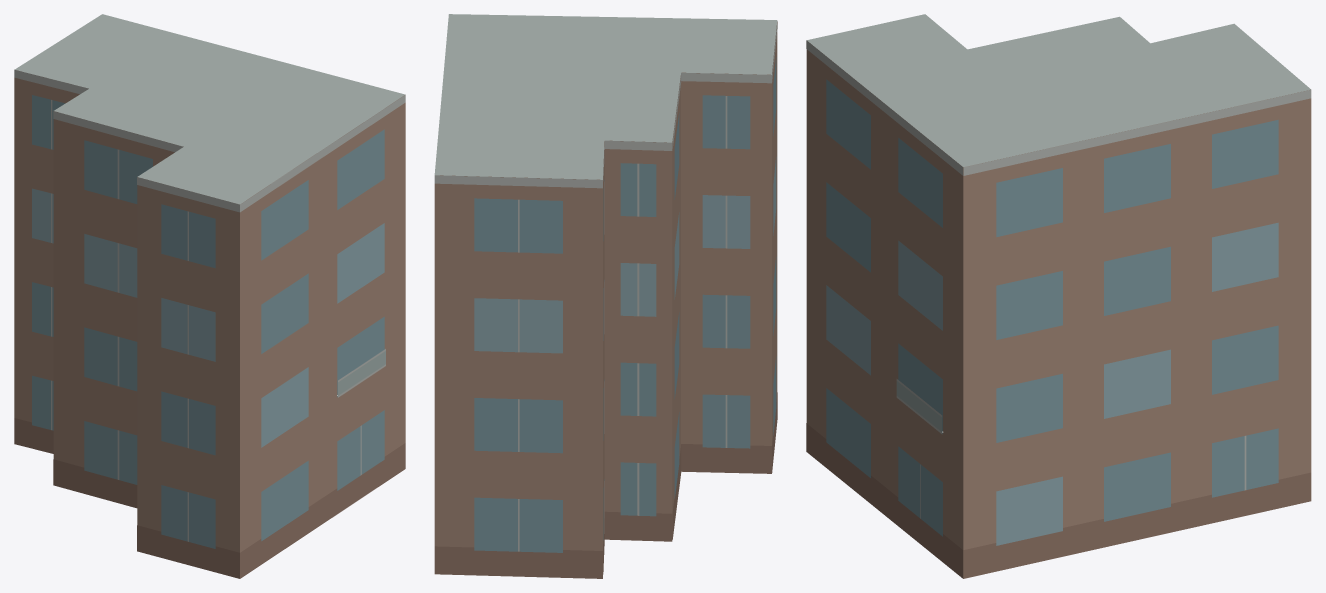
Rendered from survey-upis-32786576.glb.
3 renders of one model, left to right at view 1: azimuth 30°, elevation 25°; view 2: azimuth 150°, elevation 25°; view 3: azimuth 270°, elevation 25°, orthographic. The views are drawn at different scales.
Visible parts, largest first — view 1: survey-upis-32786576.tmp; view 2: survey-upis-32786576.tmp; view 3: survey-upis-32786576.tmp.
Boxes of the visible parts, x1=… form: survey-upis-32786576.tmp: x1=14, y1=14, x2=405, y2=578; survey-upis-32786576.tmp: x1=434, y1=14, x2=777, y2=578; survey-upis-32786576.tmp: x1=806, y1=14, x2=1311, y2=578.
Bounding box in the file's own units: 9.2 × 11.5 × 12.79.
